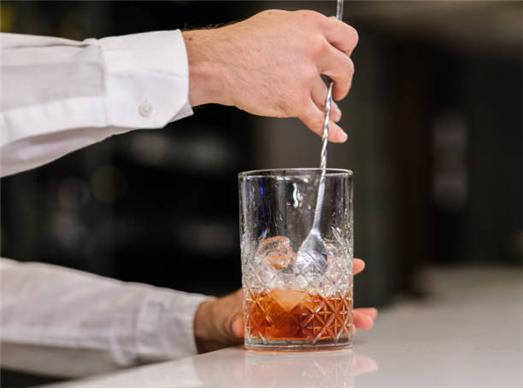alcohol: (243, 169, 352, 350)
